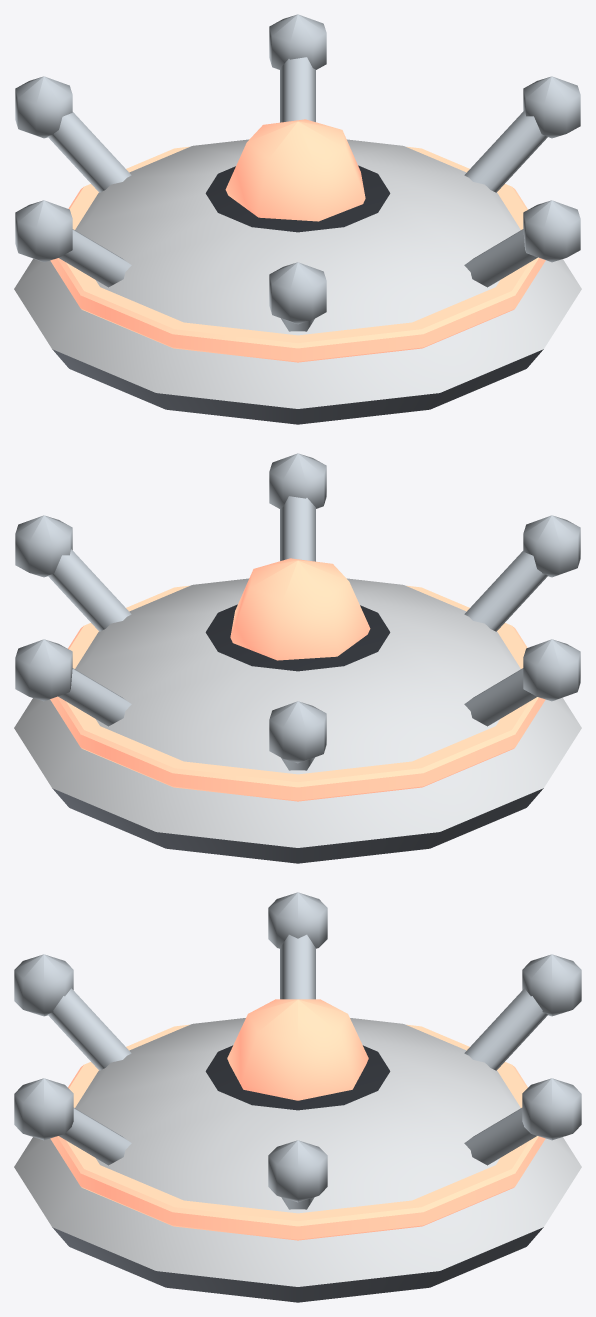
The model's file is R4D_ExplosiveTrap_LOD1.fbx.
3 views of the same model, one above another, from view 1: azimuth 30°, elevation 25°; view 2: azimuth 150°, elevation 25°; view 3: azimuth 270°, elevation 25° (orthographic).
Parts seen in each view (by area): view 1: R4D_ExplosiveTrap_LOD1; view 2: R4D_ExplosiveTrap_LOD1; view 3: R4D_ExplosiveTrap_LOD1.
Boxes of the visible parts, x1=… form: R4D_ExplosiveTrap_LOD1: x1=14, y1=14, x2=581, y2=424; R4D_ExplosiveTrap_LOD1: x1=14, y1=453, x2=581, y2=863; R4D_ExplosiveTrap_LOD1: x1=14, y1=892, x2=581, y2=1302.
Size of the model in its own units: 0.489 by 0.16 by 0.43.
